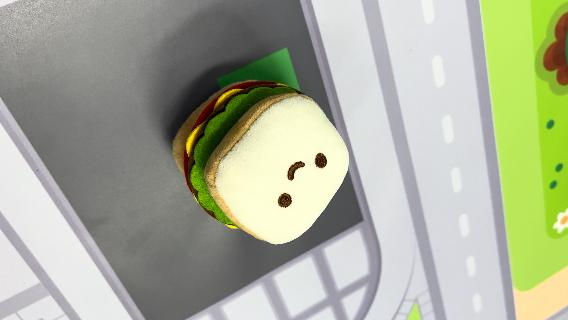sandwich: (170, 77, 352, 246)
